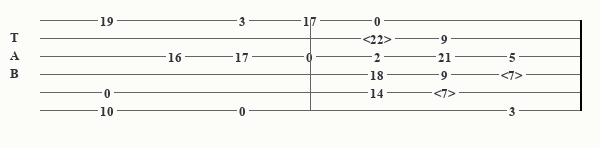0: (104, 86, 115, 99), (239, 104, 250, 117), (306, 50, 317, 63), (374, 14, 385, 27)
10: (100, 104, 118, 117)
14: (370, 86, 388, 99)
16: (168, 50, 186, 63)
17: (235, 50, 253, 63), (303, 14, 321, 27)
18: (370, 68, 388, 81)
19: (100, 14, 118, 27)
2: (374, 50, 385, 63)
21: (438, 50, 456, 63)
3: (239, 14, 250, 27), (509, 104, 520, 117)
5: (509, 50, 520, 63)
9: (441, 68, 452, 81), (441, 32, 452, 45)
harmonic: (363, 32, 396, 45), (434, 86, 460, 99), (501, 68, 527, 81)
